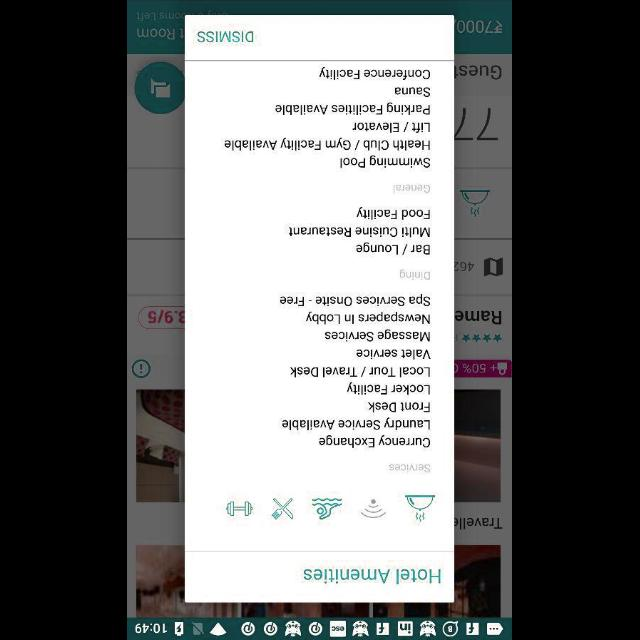image: (404, 494, 436, 522), (312, 496, 342, 520), (360, 498, 388, 518), (271, 497, 295, 519), (226, 500, 254, 516)
panel: (185, 14, 455, 602)
text: (280, 293, 432, 449), (224, 65, 432, 168), (288, 207, 432, 256), (304, 568, 442, 584), (198, 31, 255, 43), (388, 463, 432, 473), (400, 268, 432, 280), (394, 184, 431, 194)
uppertaskbar: (128, 617, 512, 639)
